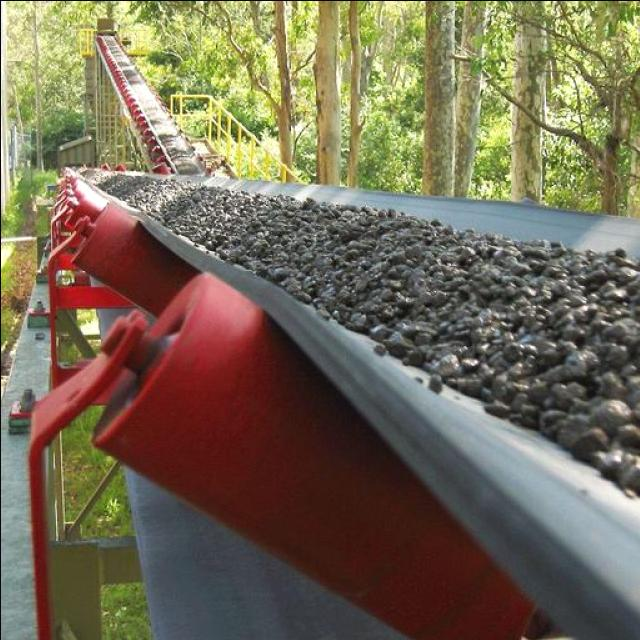conveyor: (61, 164, 640, 590)
